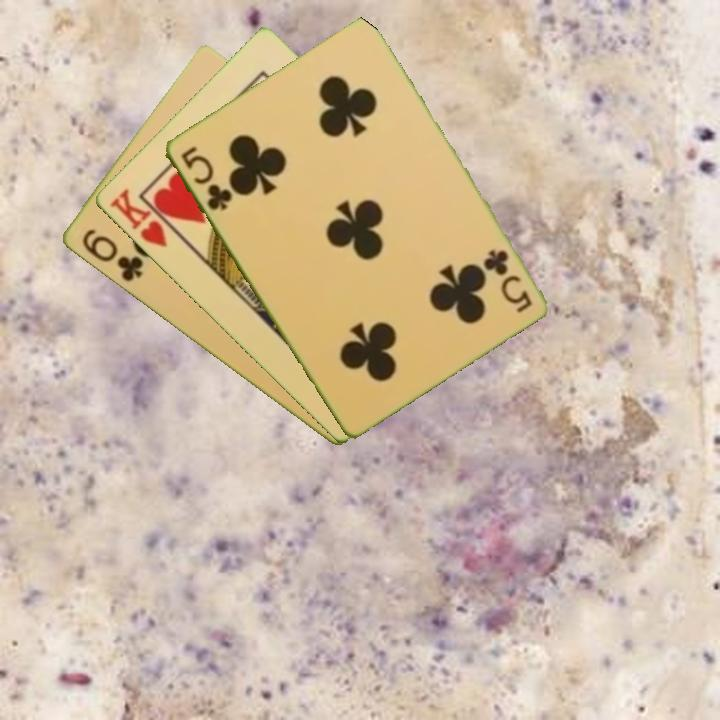5c: (176, 142, 235, 214), (481, 245, 534, 316)
6c: (78, 225, 146, 285)
Kh: (105, 185, 183, 250)
